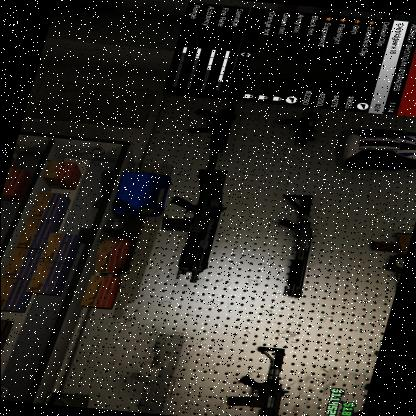rifle: (144, 162, 236, 288), (251, 184, 336, 304)
